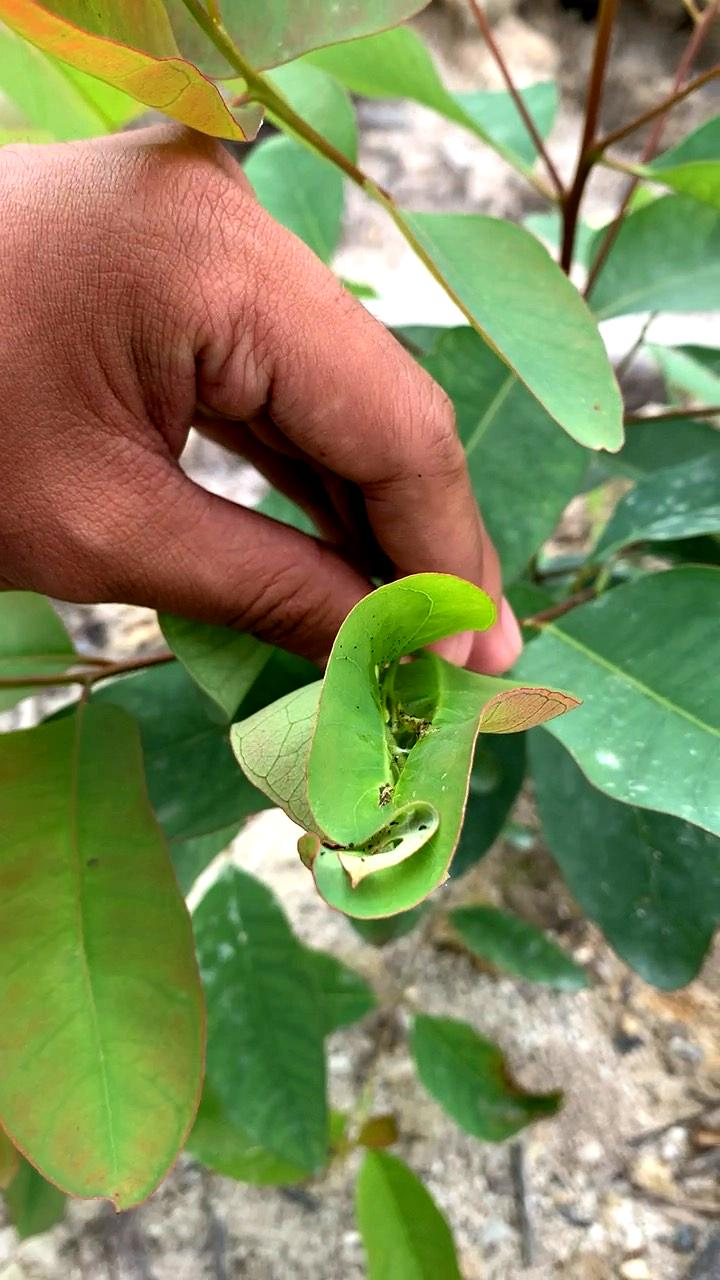Leaf Roller - Leaf: (223, 556, 548, 994)
